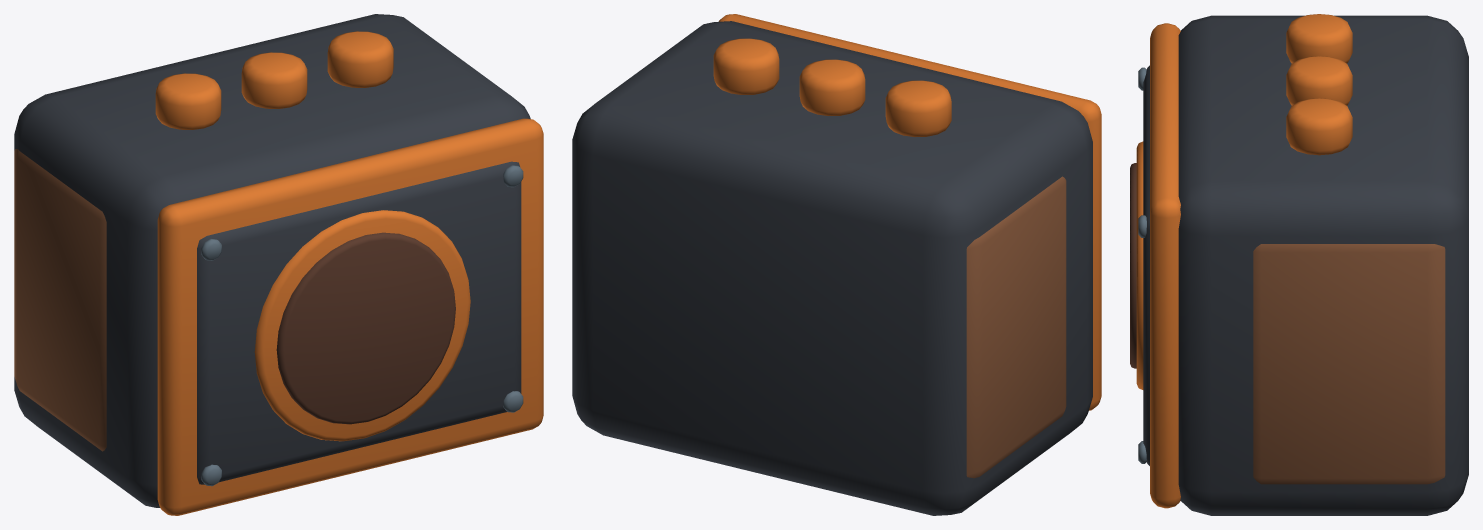
Rendered from Garage_Amp.fbx.
The picture shows the model from 3 angles, left to right: view 1: azimuth 30°, elevation 25°; view 2: azimuth 150°, elevation 25°; view 3: azimuth 270°, elevation 25°; orthographic projection.
Visible parts, largest first — view 1: Garagedark, Copper, Grille, Wood, Garage; view 2: Garagedark, Wood, Copper; view 3: Garagedark, Wood, Copper, Grille, Garage.
Boxes of the visible parts, <box> form: Garagedark: <box>14,14,530,507</box>; Copper: <box>155,31,543,515</box>; Grille: <box>276,232,455,424</box>; Wood: <box>14,149,106,451</box>; Garage: <box>201,165,523,486</box>; Garagedark: <box>572,21,1092,515</box>; Wood: <box>966,176,1066,478</box>; Copper: <box>713,14,1101,410</box>; Garagedark: <box>1143,15,1468,515</box>; Wood: <box>1253,244,1445,484</box>; Copper: <box>1136,14,1352,508</box>; Grille: <box>1130,163,1136,368</box>; Garage: <box>1138,67,1146,463</box>.
Size of the model in its own units: 2.84 by 2.43 by 2.04.
